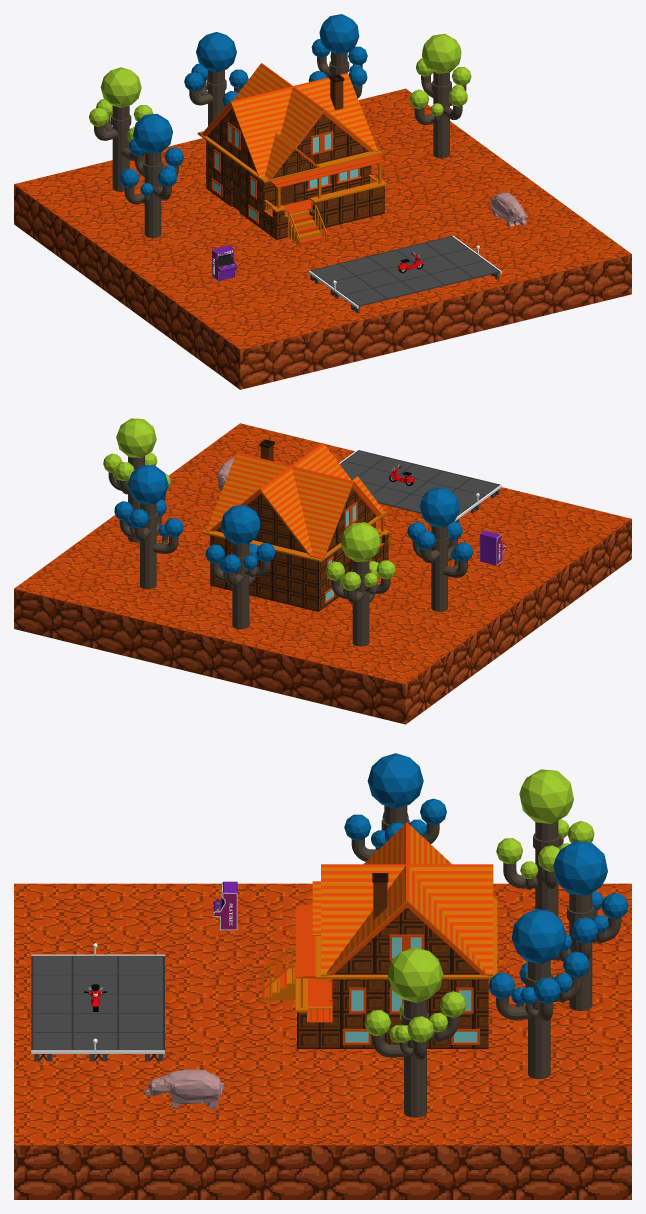
3 renders of one model, top to bottom at view 1: azimuth 30°, elevation 25°; view 2: azimuth 150°, elevation 25°; view 3: azimuth 270°, elevation 25°, orthographic. The views are drawn at different scales.
Visible parts, largest first — view 1: Cube.001, Cube, ANIMAL_HIPOPOTAMO, OBJRANDOM_ARCADE; view 2: Cube.001, Cube, OBJRANDOM_ARCADE; view 3: Cube.001, Cube, ANIMAL_HIPOPOTAMO, OBJRANDOM_ARCADE.
Boxes of the visible parts, x1,y1,x2,y2 form: Cube.001: (14, 14, 631, 389); Cube: (197, 63, 387, 246); ANIMAL_HIPOPOTAMO: (490, 192, 527, 226); OBJRANDOM_ARCADE: (211, 245, 237, 281); Cube.001: (14, 418, 631, 724); Cube: (202, 439, 390, 611); OBJRANDOM_ARCADE: (480, 530, 505, 565); Cube.001: (14, 753, 631, 1199); Cube: (262, 823, 497, 1048); ANIMAL_HIPOPOTAMO: (144, 1069, 224, 1108); OBJRANDOM_ARCADE: (213, 881, 237, 930).
Bounding box in the file's own units: 4000 × 1680 × 4000.
Materials: 37 (5 with a texture image).
